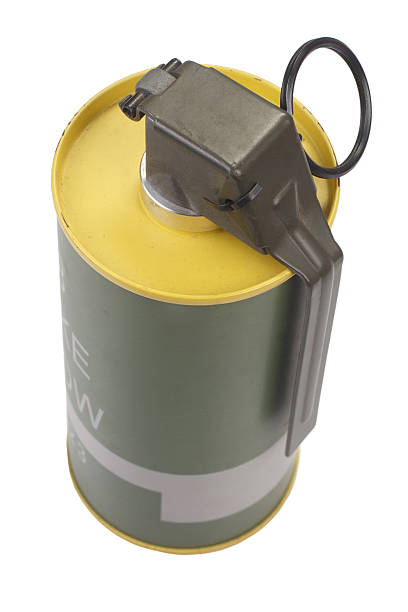e1: (52, 37, 374, 555)
